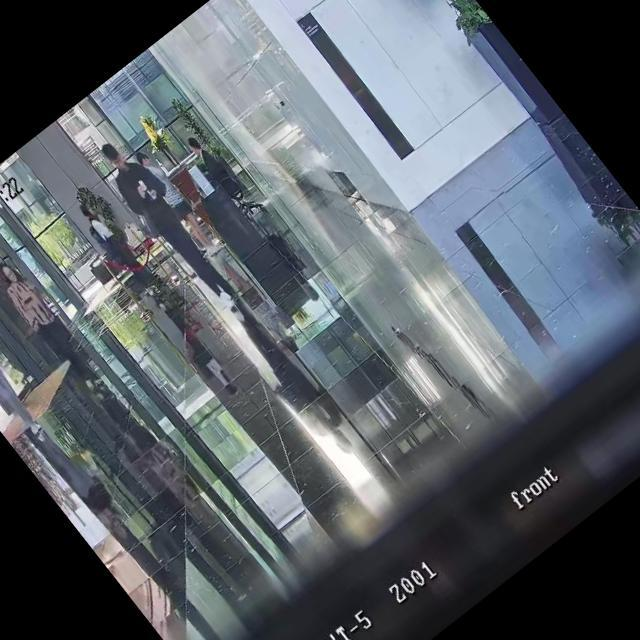person: (88, 129, 251, 321), (0, 257, 112, 402), (130, 145, 226, 258), (73, 194, 160, 294), (0, 310, 50, 445), (182, 131, 250, 210)
